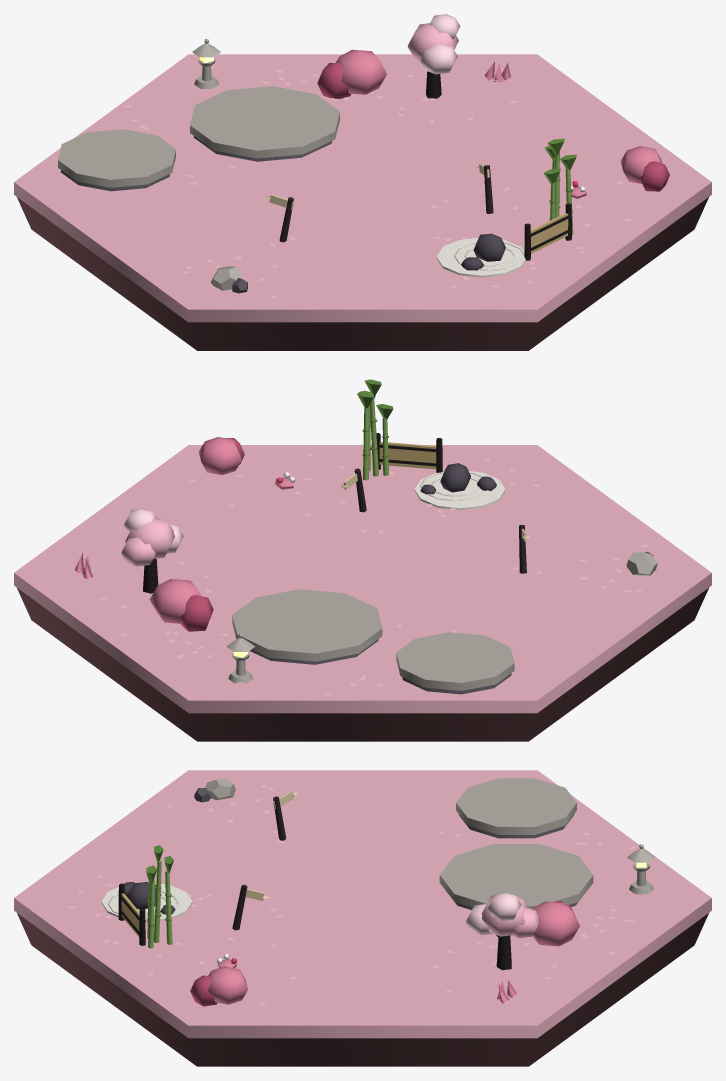
File: tile_mirrorJunction.glb
3 views of the same model, one above another, from view 1: azimuth 30°, elevation 25°; view 2: azimuth 150°, elevation 25°; view 3: azimuth 270°, elevation 25° (orthographic).
Parts seen in each view (by area): view 1: ground, ground_soil, tower_slot_2_plate, tower_slot_1_plate, deco_tree_2, deco_karesansui_gravel, deco_bush_5_a, deco_bamboo, deco_karesansui, deco_petals, deco_bush_0_a, deco_bush_5_b (+3 smaller); view 2: ground, ground_soil, tower_slot_2_plate, tower_slot_1_plate, deco_tree_2, deco_karesansui_gravel, deco_bamboo, deco_bush_5_a, deco_karesansui, deco_bush_0_a, deco_petals, deco_takegaki_panel (+2 smaller); view 3: ground, ground_soil, tower_slot_2_plate, tower_slot_1_plate, deco_tree_2, deco_bamboo, deco_bush_5_a, deco_bush_0_a, deco_petals, deco_karesansui_gravel, deco_karesansui, deco_bush_0_b (+2 smaller).
Boxes of the visible parts, <box> form: ground: <box>14,54,711,322</box>; ground_soil: <box>17,197,708,350</box>; tower_slot_2_plate: <box>190,86,339,158</box>; tower_slot_1_plate: <box>58,129,175,187</box>; deco_tree_2: <box>408,14,460,74</box>; deco_karesansui_gravel: <box>436,238,525,277</box>; deco_bush_5_a: <box>336,49,386,94</box>; deco_bamboo: <box>543,138,576,235</box>; deco_karesansui: <box>454,233,524,271</box>; deco_petals: <box>121,69,631,298</box>; deco_bush_0_a: <box>620,146,661,183</box>; deco_bush_5_b: <box>317,62,350,98</box>; ground: <box>14,445,711,713</box>; ground_soil: <box>17,588,708,741</box>; tower_slot_2_plate: <box>232,589,382,661</box>; tower_slot_1_plate: <box>396,632,514,690</box>; deco_tree_2: <box>121,508,183,566</box>; deco_karesansui_gravel: <box>414,471,505,510</box>; deco_bamboo: <box>357,379,393,480</box>; deco_bush_5_a: <box>149,579,201,623</box>; deco_karesansui: <box>420,463,496,501</box>; deco_bush_0_a: <box>198,437,241,474</box>; deco_petals: <box>72,453,648,695</box>; deco_takegaki_panel: <box>379,441,436,469</box>; ground: <box>14,770,711,1038</box>; ground_soil: <box>17,913,708,1066</box>; tower_slot_2_plate: <box>439,844,593,908</box>; tower_slot_1_plate: <box>456,778,576,834</box>; deco_tree_2: <box>466,892,540,938</box>; deco_bamboo: <box>146,845,173,948</box>; deco_bush_5_a: <box>532,901,579,946</box>; deco_bush_0_a: <box>208,966,247,1004</box>; deco_petals: <box>67,784,635,1005</box>; deco_karesansui_gravel: <box>101,883,192,922</box>; deco_karesansui: <box>108,882,178,918</box>; deco_bush_0_b: <box>190,975,217,1006</box>.
Size of the model in its own units: 1.73 by 0.445 by 2.
